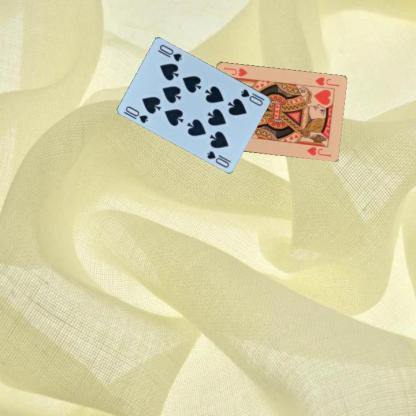10s: (238, 86, 266, 107), (123, 104, 150, 125)
Jh: (313, 74, 340, 88)
